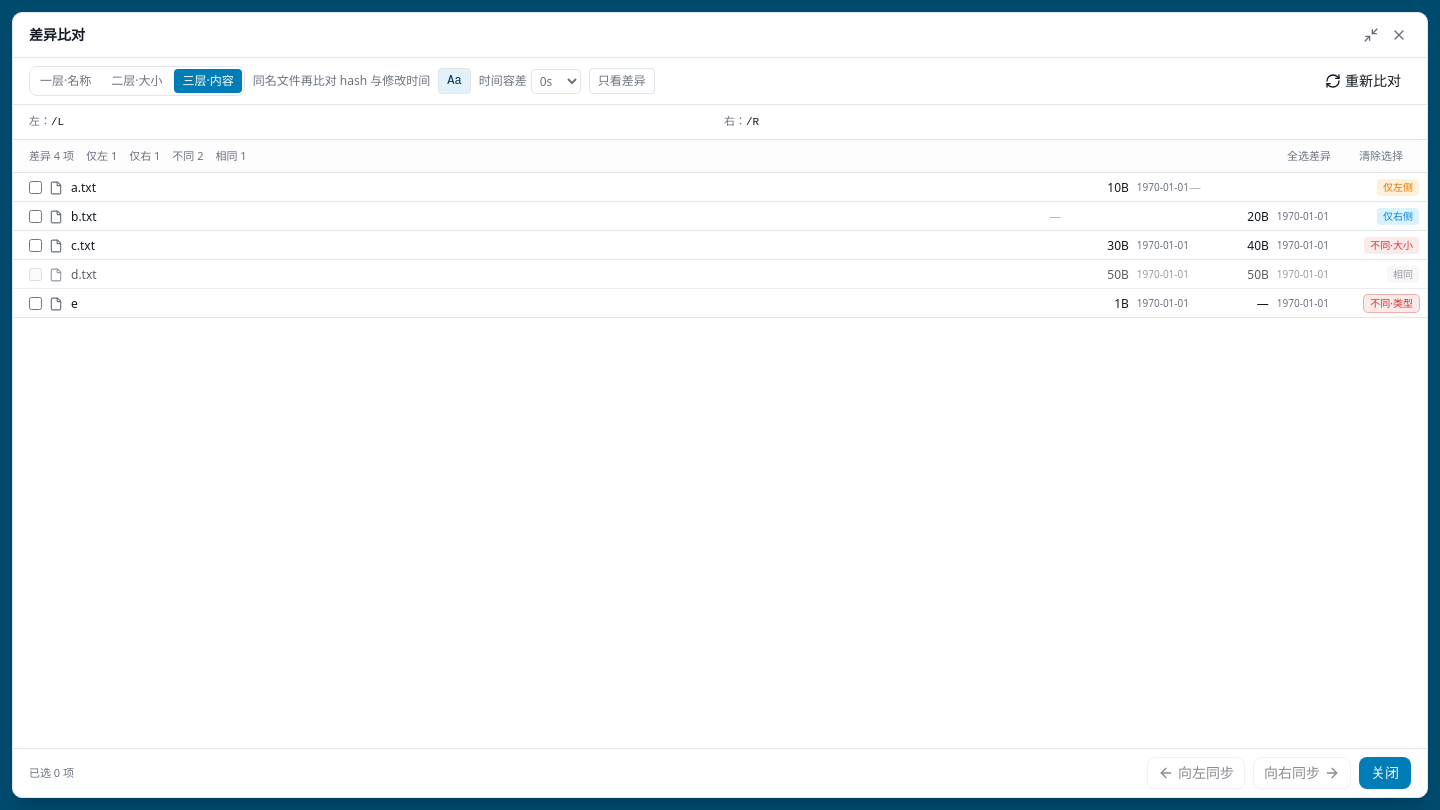
DiffDialog（v0.18 差异比对） › 「只看差异」隐藏相同项
Expected: the text "d.txt" is shown, [71,267,97,283]
Step 1. Click the button "只看差异" → (622,81), box [589,68,655,94]
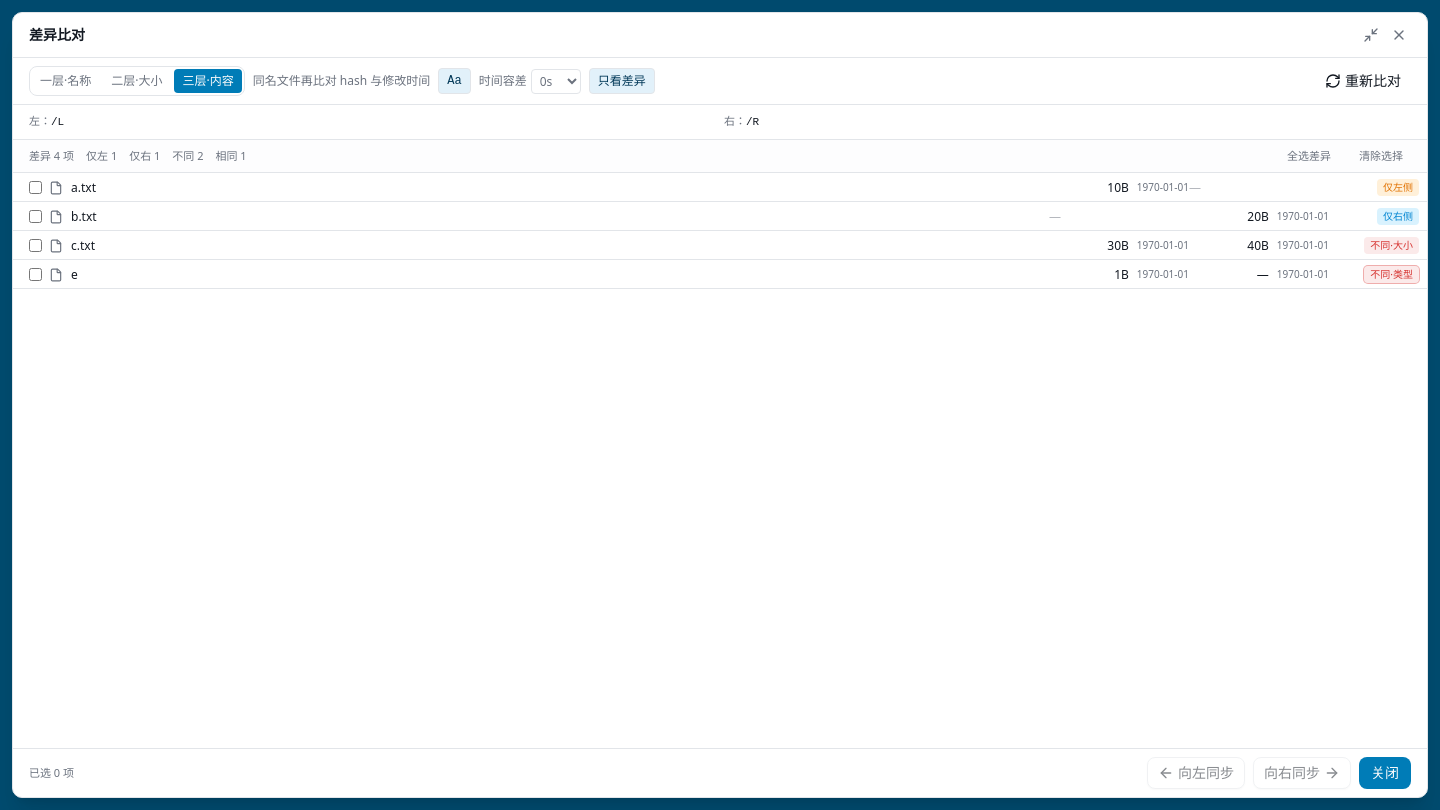
Expected: the text "a.txt" is shown, [71,180,96,196]
Result: the text "d.txt" is gone
